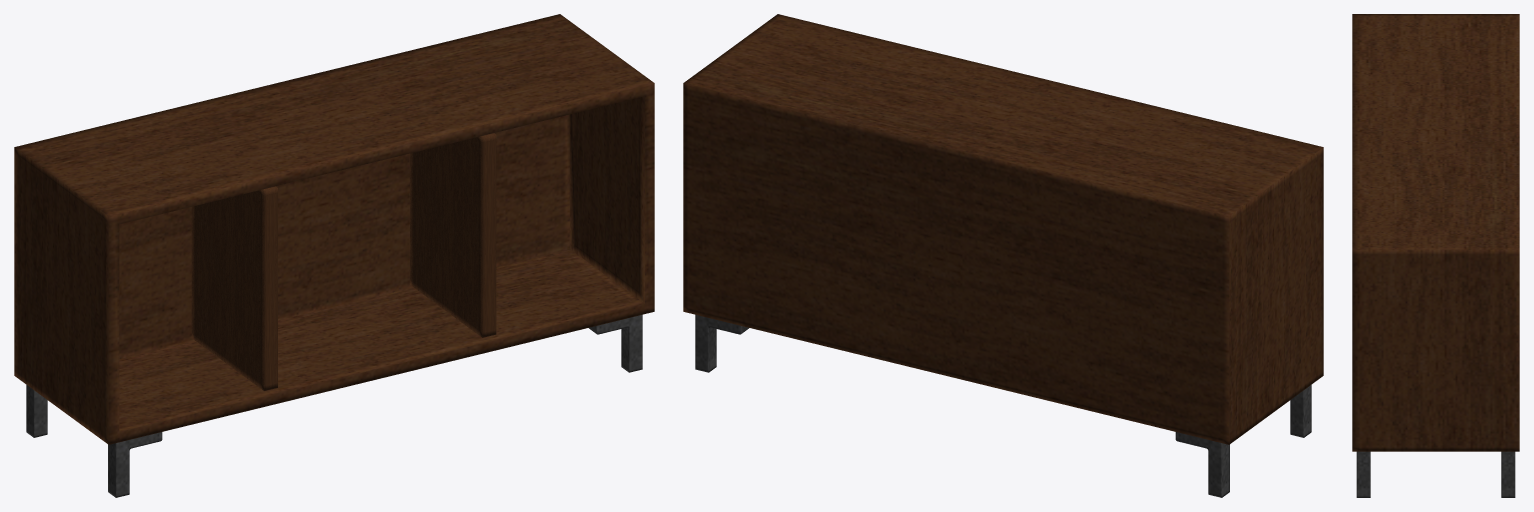
The model's file is stand.002.fbx.
The picture shows the model from 3 angles, left to right: view 1: azimuth 30°, elevation 25°; view 2: azimuth 150°, elevation 25°; view 3: azimuth 270°, elevation 25°; orthographic projection. The views are drawn at different scales.
Parts seen in each view (by area): view 1: Base, Divider.002, Divider.001, Leg.001, Leg.004, Leg.002; view 2: Base, Leg.002, Leg.003, Leg.001; view 3: Base, Leg.003, Leg.004.
Boxes of the visible parts, <box> form: Base: <box>14,14,654,444</box>; Divider.002: <box>410,133,496,337</box>; Divider.001: <box>191,186,277,390</box>; Leg.001: <box>108,432,162,497</box>; Leg.004: <box>589,314,642,372</box>; Leg.002: <box>26,385,47,437</box>; Base: <box>683,14,1323,444</box>; Leg.002: <box>1175,432,1229,497</box>; Leg.003: <box>695,314,748,372</box>; Leg.001: <box>1290,385,1311,437</box>; Base: <box>1352,14,1519,451</box>; Leg.003: <box>1501,451,1515,497</box>; Leg.004: <box>1356,451,1370,497</box>.
Size of the model in its own units: 150 by 75 by 45.
